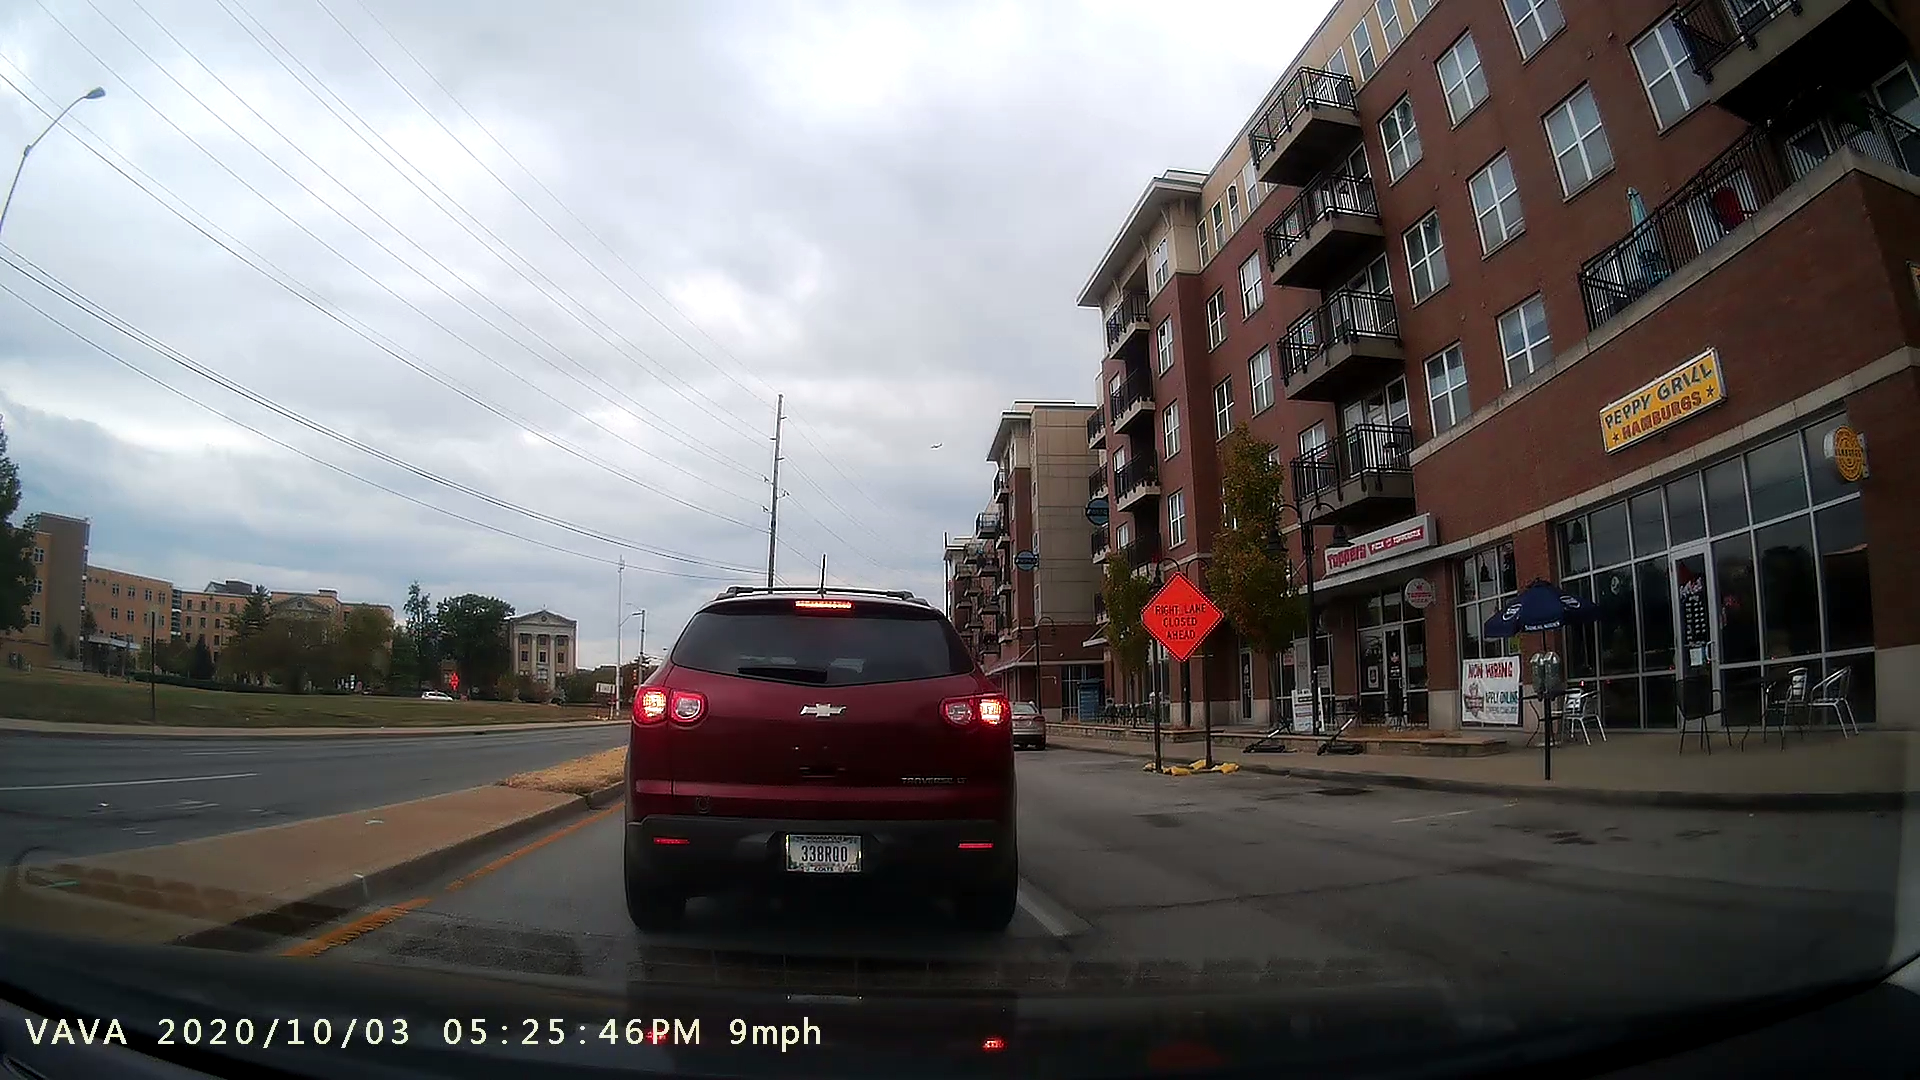ttcs_right_lane_closed_ahead: (1106, 535, 1244, 793)
